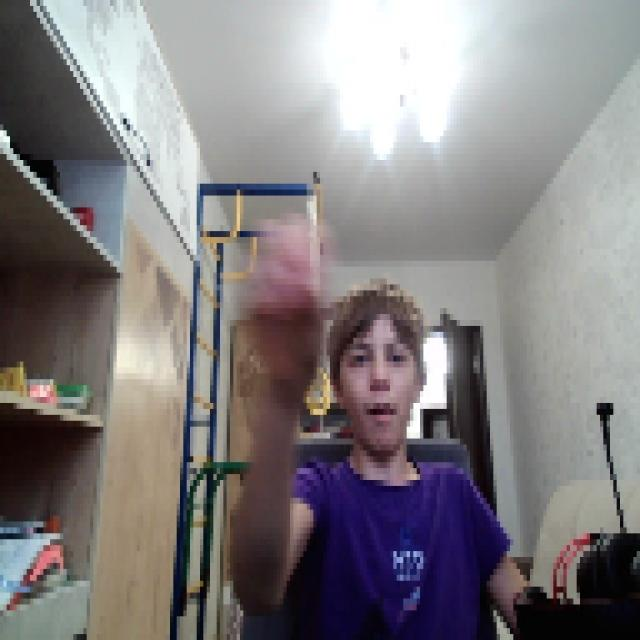left_click: (234, 208, 324, 391)
